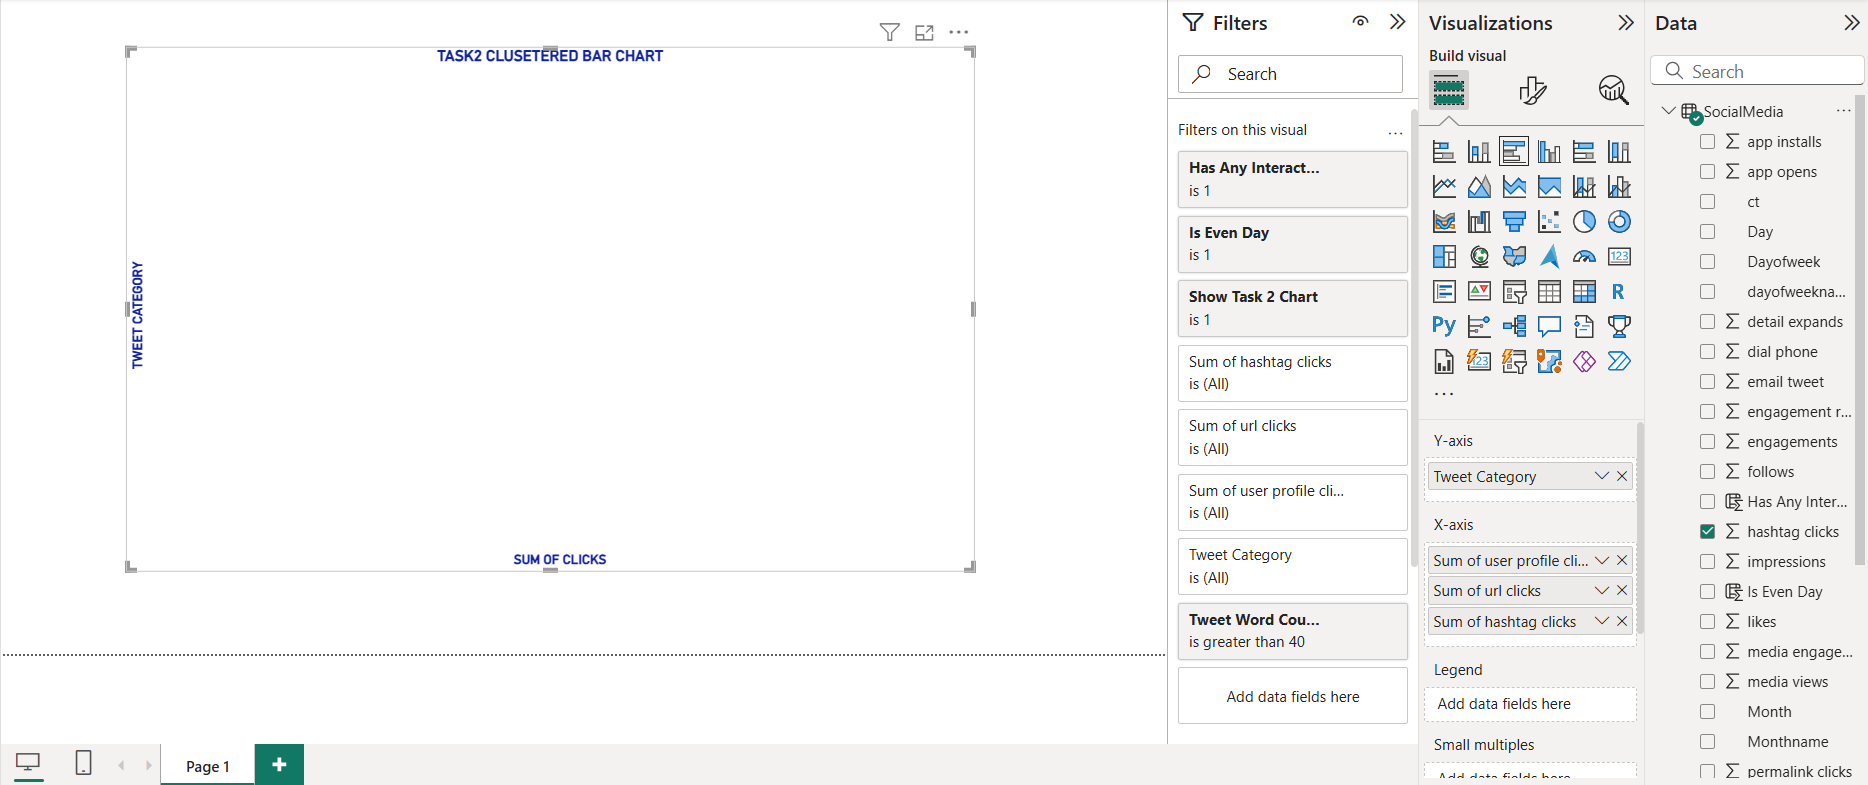

Layout of this report page (visuals, bound fields, positions):
{"tool":"powerbi","page":{"name":"Page 1","canvas":[1280,720],"ordinal":0},"visuals":[{"type":"clusteredBarChart","title":"TASK2 CLUSETERED BAR CHART","fields":{"Category":["SocialMedia.Tweet Category"],"Y":["Sum(SocialMedia.user profile clicks)","Sum(SocialMedia.url clicks)","Sum(SocialMedia.hashtag clicks)"]},"box":[137.2,53.5,931.7,576.3],"z":0}]}

Visuals, with their boxes in screenshot pixels (x1, y1, x2, y2):
"TASK2 CLUSETERED BAR CHART" clusteredBarChart: [468,50,1432,647]
